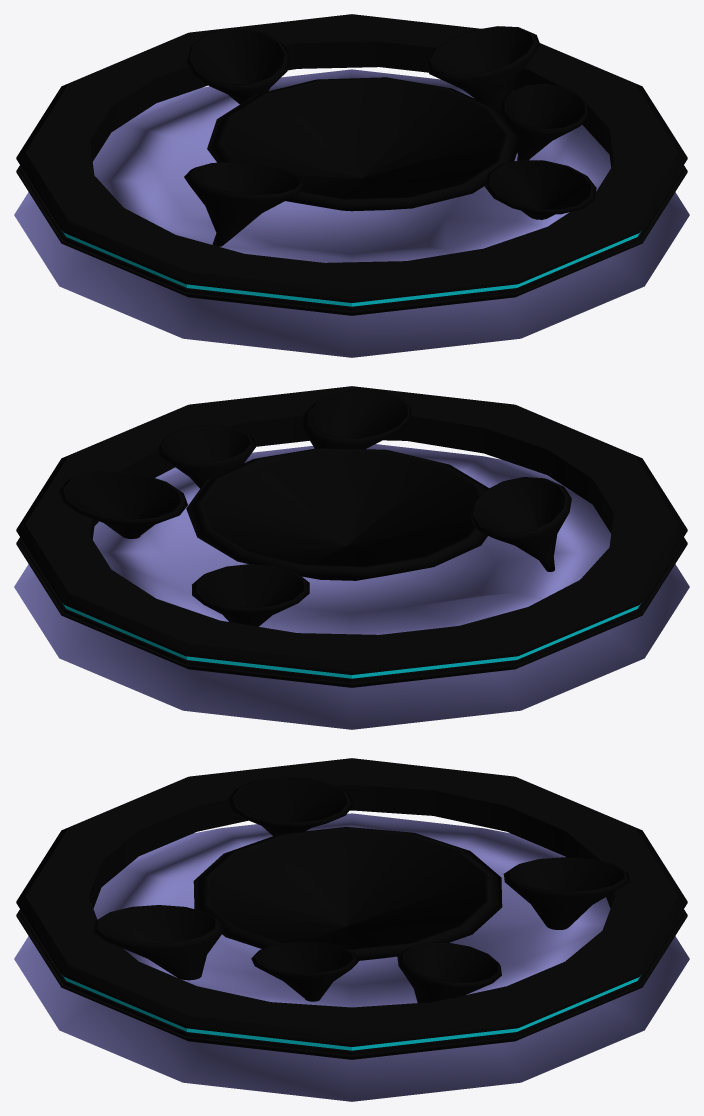
Rendered from BlowWorker.fbx.
3 views of the same model, one above another, from view 1: azimuth 30°, elevation 25°; view 2: azimuth 150°, elevation 25°; view 3: azimuth 270°, elevation 25° (orthographic).
Parts seen in each view (by area): view 1: BlowWorker; view 2: BlowWorker; view 3: BlowWorker.
Boxes of the visible parts, x1=… form: BlowWorker: x1=14, y1=14, x2=689, y2=357; BlowWorker: x1=14, y1=386, x2=689, y2=729; BlowWorker: x1=14, y1=758, x2=689, y2=1101.
Size of the model in its own units: 2.57 by 0.4094 by 2.57.
